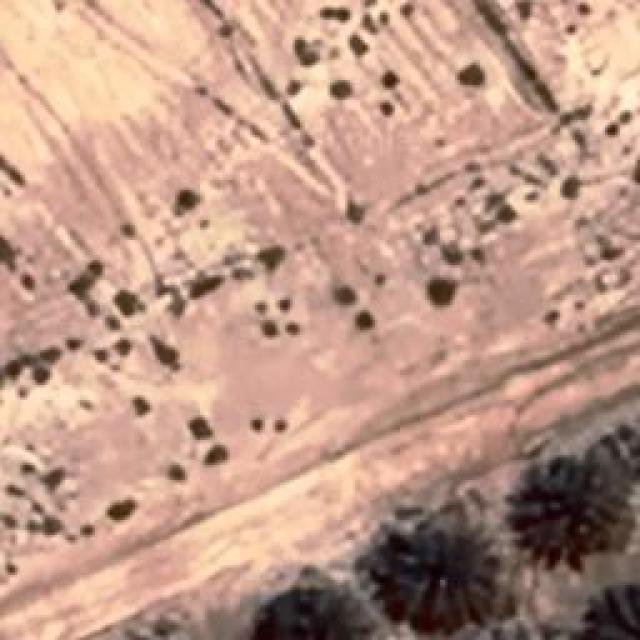PalmTree: (368, 526, 512, 629), (512, 464, 626, 556), (248, 575, 372, 640), (577, 580, 640, 640)
